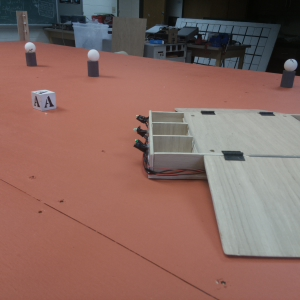obstacle: (276, 52, 296, 90), (87, 49, 106, 78), (23, 41, 37, 69)
side: (137, 105, 186, 177)
slope: (208, 145, 300, 250), (190, 99, 283, 121)
